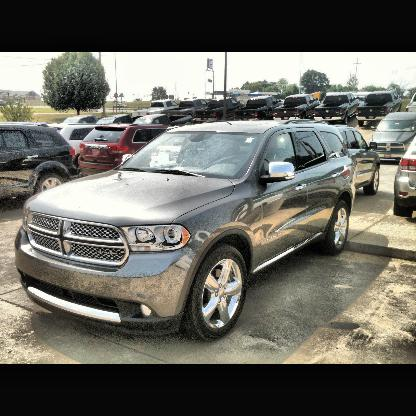Dodge Durango SUV 2012: (15, 122, 358, 343)
